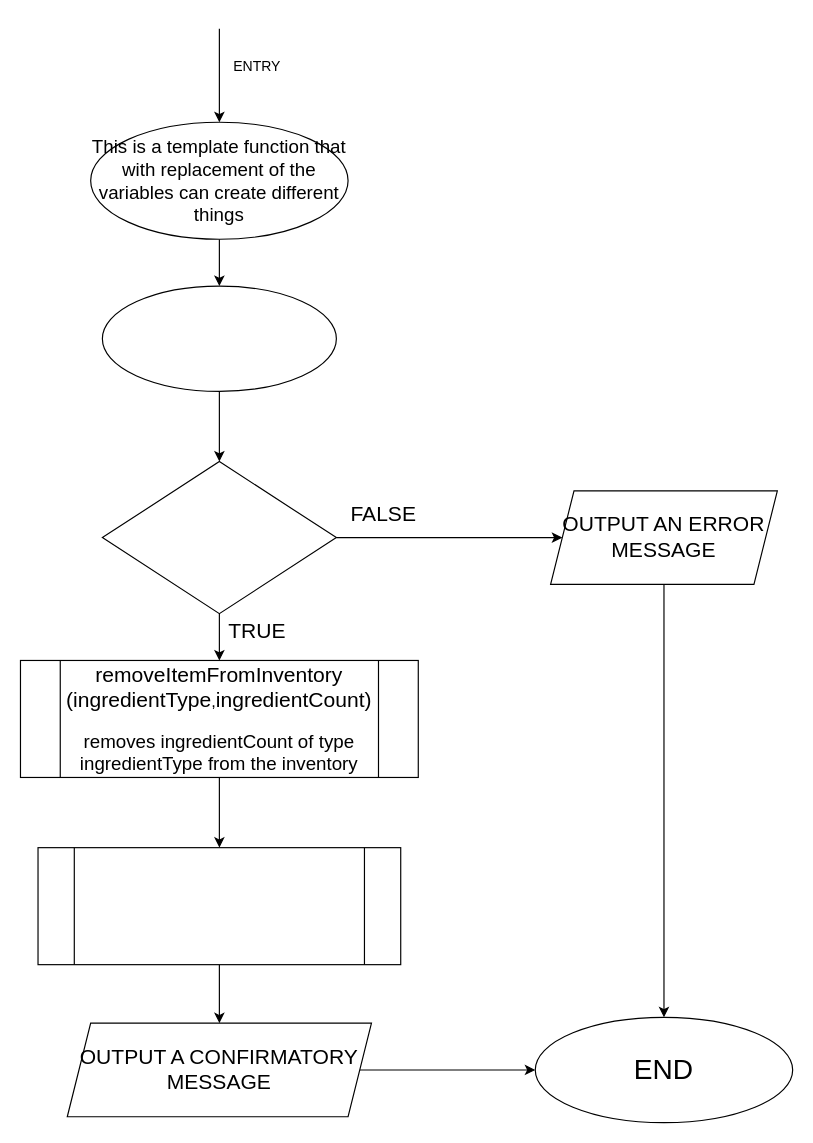
Image size: 813x1143. Some labels were removed from this diagram. Here are the shapes that lost their labels. From the top down, the centre of each, then its label:
At (218,338): "variables: ingredientType ingredientCount".
At (218,537): "ingredientType exists ingredientCount times in inventory".
At (219,905): "addCraftedItem(craftedItem) Add one of the requested item to the inventory".
